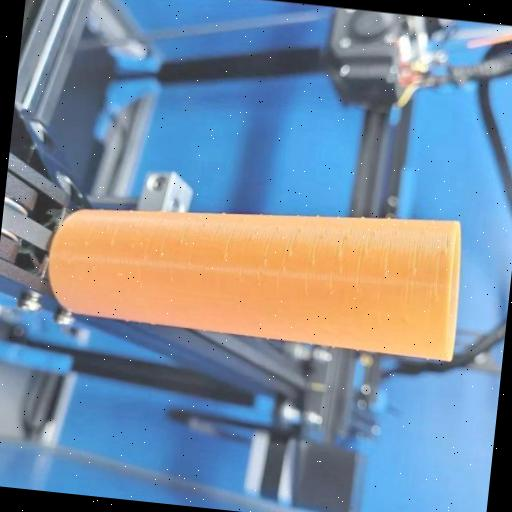blobs: (409, 266, 419, 280), (222, 250, 232, 261), (310, 257, 319, 269), (83, 236, 92, 248), (382, 268, 392, 278), (326, 286, 336, 296), (126, 239, 136, 249), (156, 250, 166, 260), (262, 254, 270, 266), (362, 246, 371, 256), (338, 264, 346, 274), (286, 248, 294, 258), (394, 227, 402, 237), (108, 237, 116, 247), (90, 262, 98, 272), (176, 236, 184, 246), (320, 230, 328, 239), (442, 246, 449, 256), (280, 264, 287, 274), (344, 232, 351, 241), (434, 293, 441, 302), (116, 270, 122, 280), (336, 249, 342, 258), (298, 226, 304, 235), (354, 286, 361, 293), (105, 225, 112, 232), (250, 234, 256, 242), (142, 252, 148, 260), (66, 258, 74, 264), (422, 229, 428, 236), (256, 280, 262, 287), (138, 282, 144, 288)
